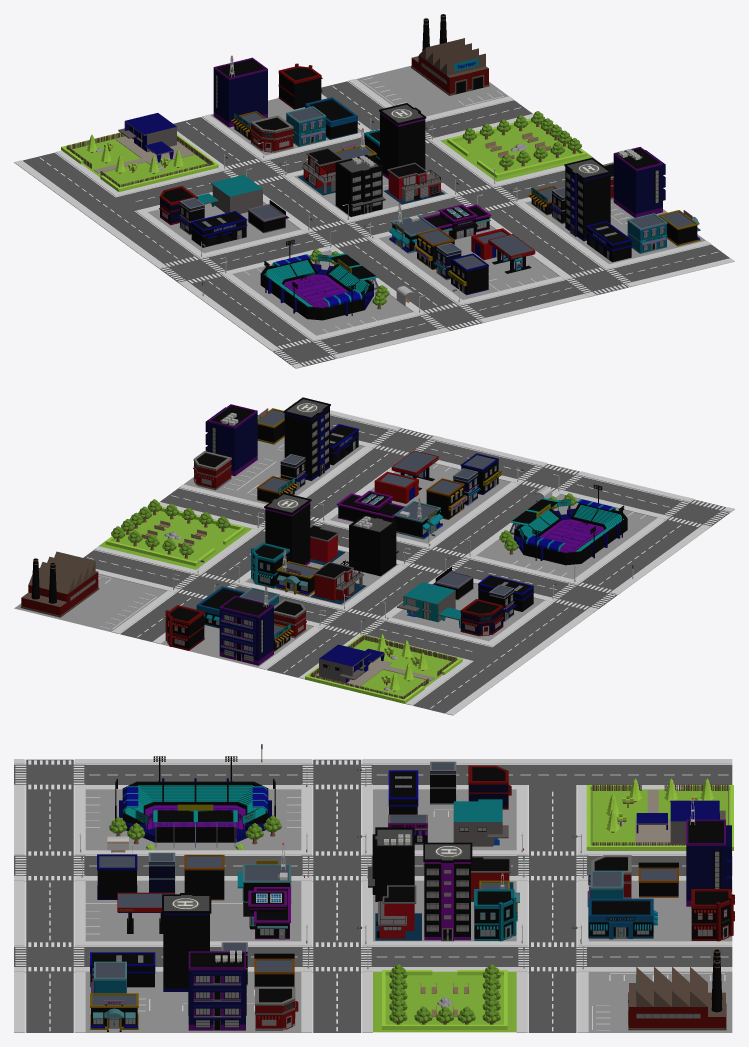
The model's file is cyberpunk.glb.
3 views of the same model, one above another, from view 1: azimuth 30°, elevation 25°; view 2: azimuth 150°, elevation 25°; view 3: azimuth 270°, elevation 25° (orthographic). The views are drawn at different scales.
Parts seen in each view (by area): view 1: Building_Stadium, Building_Factory, Building_Residential_color01.001, Building_Residential_color01, Building Sky_big_color01.001, Building Sky_big_color01, Building Sky_small_color01, Building_Gas Station, Building_House_02_color01, Building_House_04_color01.001, Building_House_04_color01, Building_Clothing (+74 smaller); view 2: Building_Stadium, Building_Factory, Building_Residential_color01, Building Sky_big_color01.001, Building_Residential_color01.001, Building Sky_big_color01, Building Sky_small_color01, Building_Gas Station, Building_House_04_color01, Building_House_01_color01, Building_House_04_color01.001, Building_Clothing (+77 smaller); view 3: Building_Stadium, Building_Factory, Building_Residential_color01.001, Building Sky_big_color01, Building Sky_big_color01.001, Building_Residential_color01, Building_Coffee Shop, Building Sky_small_color01, Building_House_04_color01, Road Lane_01.031, Building_House_02_color01, Road Lane_01.029 (+98 smaller).
Boxes of the visible parts, x1,y1,x2,y2 form: Building_Stadium: (260,239,378,320); Building_Factory: (411,14,489,95); Building_Residential_color01.001: (613,147,665,217); Building_Residential_color01: (213,57,267,127); Building Sky_big_color01.001: (564,157,611,241); Building Sky_big_color01: (379,103,426,179); Building Sky_small_color01: (335,155,385,216); Building_Gas Station: (471,228,535,273); Building_House_02_color01: (384,162,444,204); Building_House_04_color01.001: (118,113,176,162); Building_House_04_color01: (196,175,262,213); Building_Clothing: (278,63,322,109); Building_Stadium: (509,484,627,565); Building_Factory: (20,551,99,617); Building_Residential_color01: (219,596,273,665); Building Sky_big_color01.001: (283,397,330,480); Building_Residential_color01.001: (205,404,257,476); Building Sky_big_color01: (264,492,311,565); Building Sky_small_color01: (349,514,398,576); Building_Gas Station: (374,450,438,503); Building_House_04_color01: (397,582,460,628); Building_House_01_color01: (310,560,365,604); Building_House_04_color01.001: (319,644,384,682); Building_Clothing: (165,605,204,650); Building_Stadium: (115,756,275,847); Building_Factory: (628,949,726,1030); Building_Residential_color01.001: (188,951,246,1030); Building Sky_big_color01: (423,842,472,941); Building Sky_big_color01.001: (162,893,211,991); Building_Residential_color01: (686,819,731,906); Building_Coffee Shop: (588,898,657,939); Building Sky_small_color01: (368,827,414,901); Building_House_04_color01: (453,799,508,846); Road Lane_01.031: (588,941,660,972); Building_House_02_color01: (375,885,421,940); Road Lane_01.029: (516,1002,588,1032).
Bounding box in the file's own units: 180 × 27.21 × 201.
Materials: 35 (35 with a texture image).
